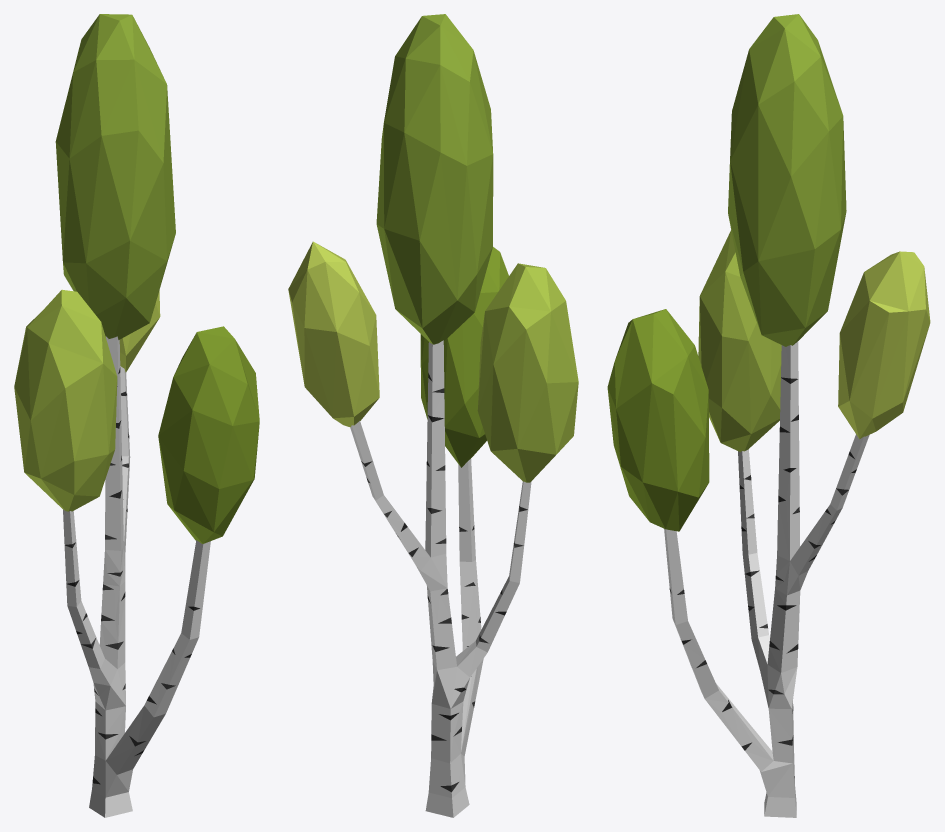
Rendered from Tree_Birch_03.fbx.
The picture shows the model from 3 angles, left to right: view 1: azimuth 30°, elevation 25°; view 2: azimuth 150°, elevation 25°; view 3: azimuth 270°, elevation 25°; orthographic projection.
Parts seen in each view (by area): view 1: Tree_Birch_03; view 2: Tree_Birch_03; view 3: Tree_Birch_03.
Part boxes in pixels (<box>): Tree_Birch_03: <box>14,14,259,817</box>; Tree_Birch_03: <box>288,14,578,817</box>; Tree_Birch_03: <box>607,14,930,817</box>.
Size of the model in its own units: 2.48 by 9.23 by 3.39.
